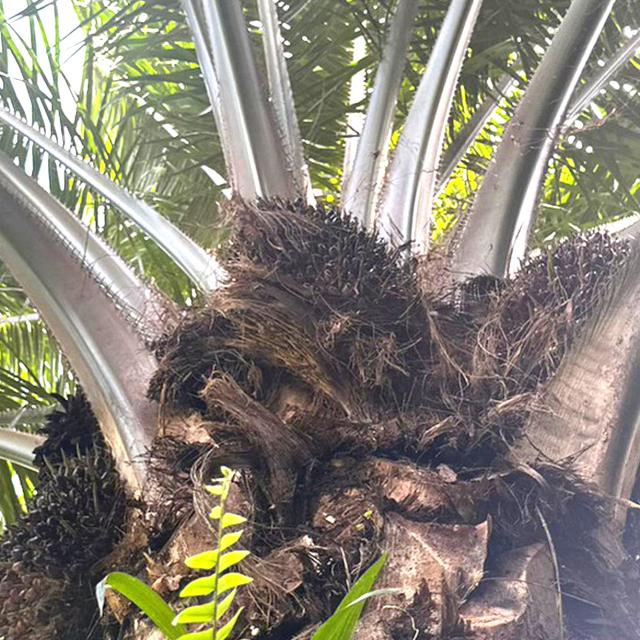unripe: (216, 187, 443, 345), (476, 218, 640, 426), (0, 441, 142, 640)
